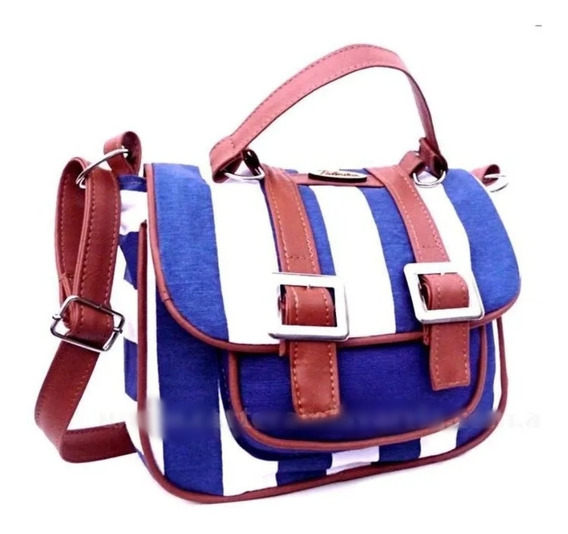cartera: (32, 39, 524, 505)
